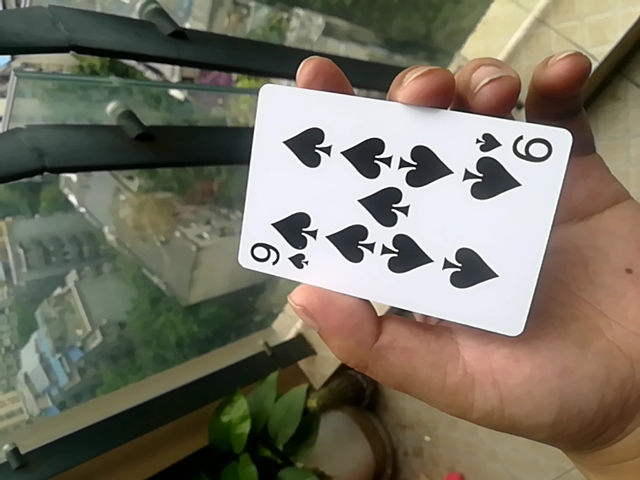ht 9: (230, 75, 572, 337)
